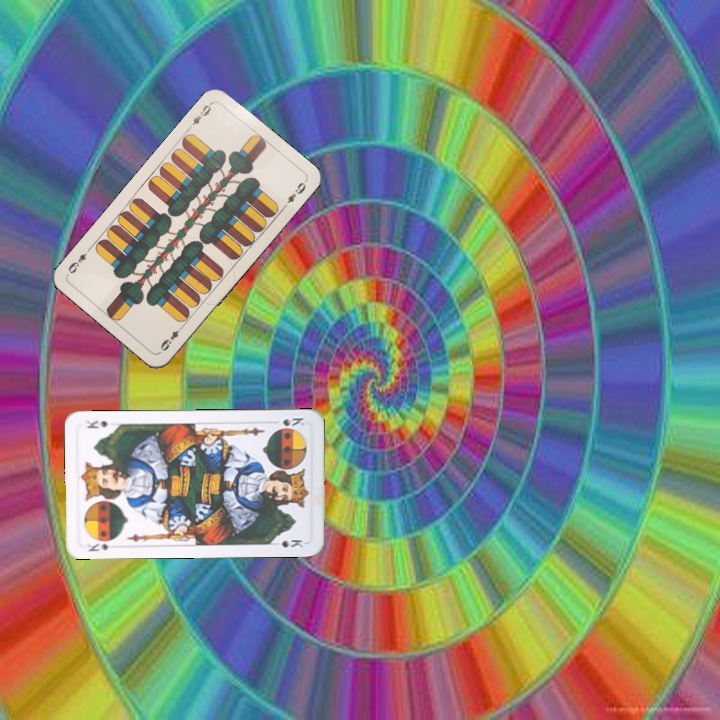E9: (184, 98, 215, 132), (156, 321, 186, 354)
SK: (267, 414, 307, 429), (83, 538, 111, 554)
